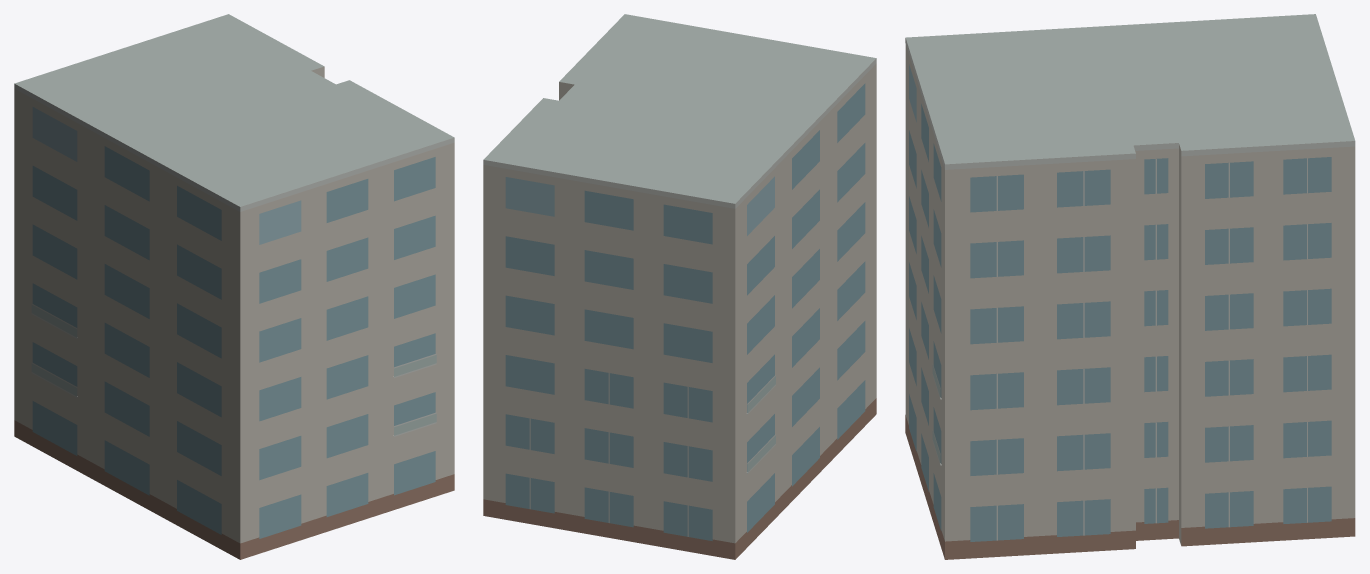
Rendered from survey-upis-32531199.glb.
The picture shows the model from 3 angles, left to right: view 1: azimuth 30°, elevation 25°; view 2: azimuth 150°, elevation 25°; view 3: azimuth 270°, elevation 25°; orthographic projection. The views are drawn at different scales.
Parts seen in each view (by area): view 1: survey-upis-32531199.tmp; view 2: survey-upis-32531199.tmp; view 3: survey-upis-32531199.tmp.
Part boxes in pixels (<box>): survey-upis-32531199.tmp: <box>14,14,454,559</box>; survey-upis-32531199.tmp: <box>483,14,876,559</box>; survey-upis-32531199.tmp: <box>905,14,1355,559</box>.
Size of the model in its own units: 14.04 by 17.2 by 17.74.
